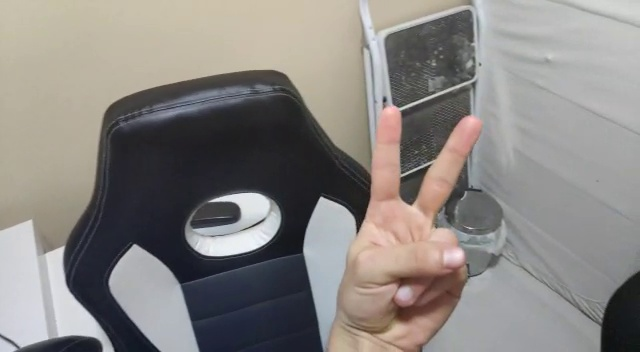Peace: (326, 100, 485, 351)
